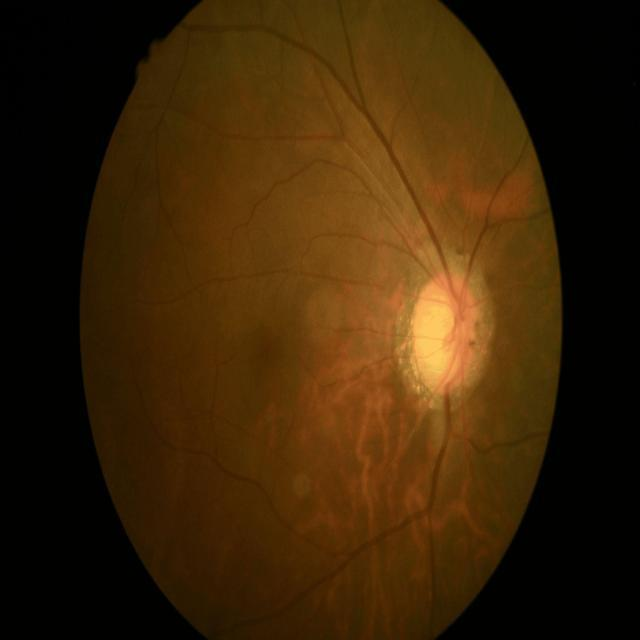cup: (424, 292, 464, 386)
disk: (410, 272, 480, 399)
